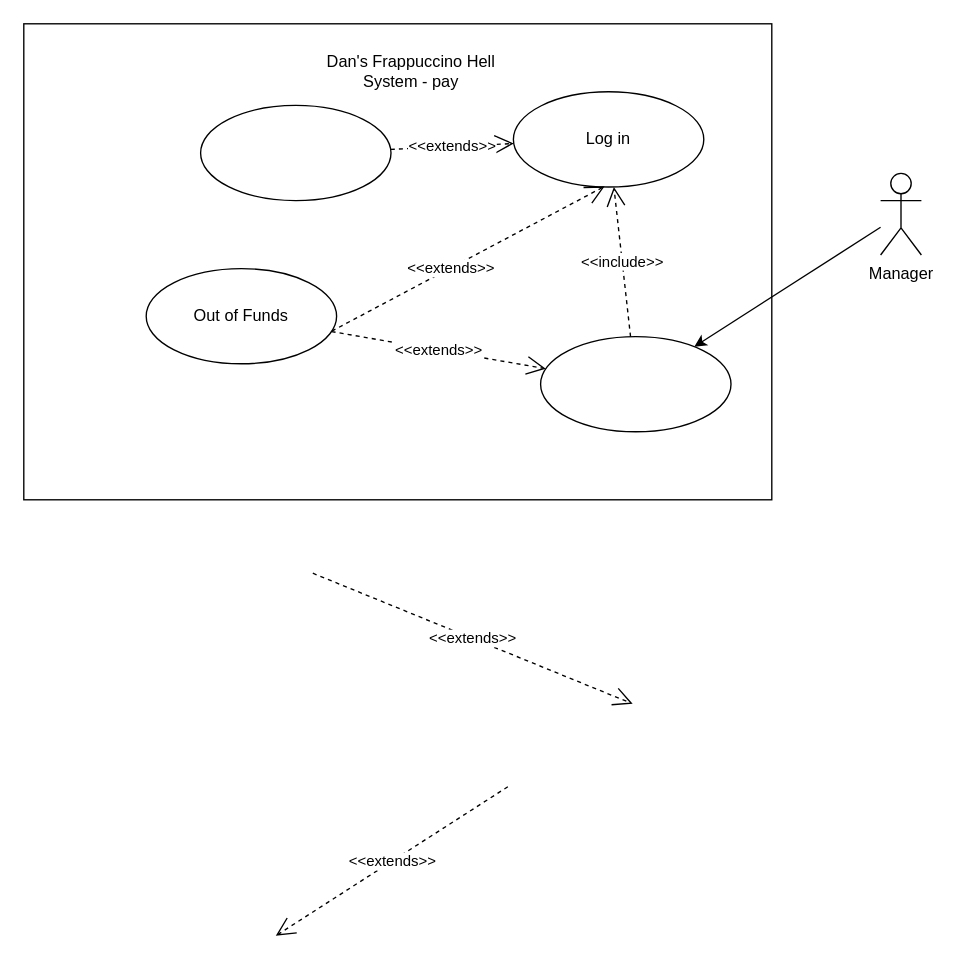
Some shapes in this 956 by 979 pixel diagram are drawn without their labels. The shapes that lost their labels are listed below. From the top down, each one's centre as x and y in pixels, then its label:
At (295,152): "Create Account".
At (635,383): "Pay Employees".
